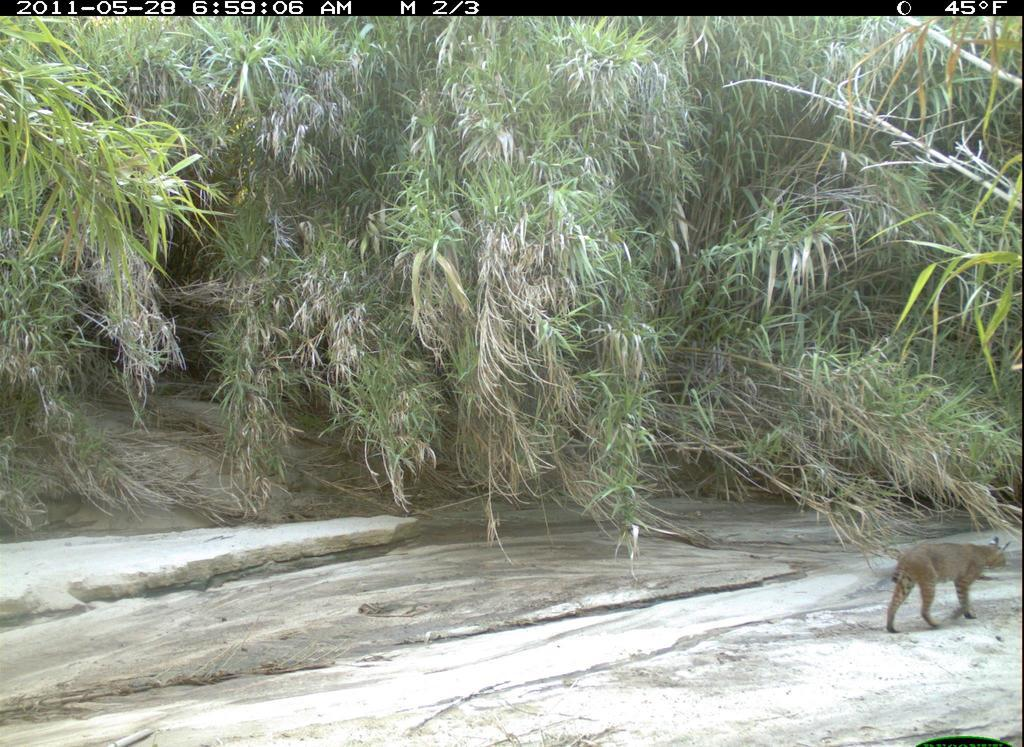bobcat: (881, 535, 1013, 636)
